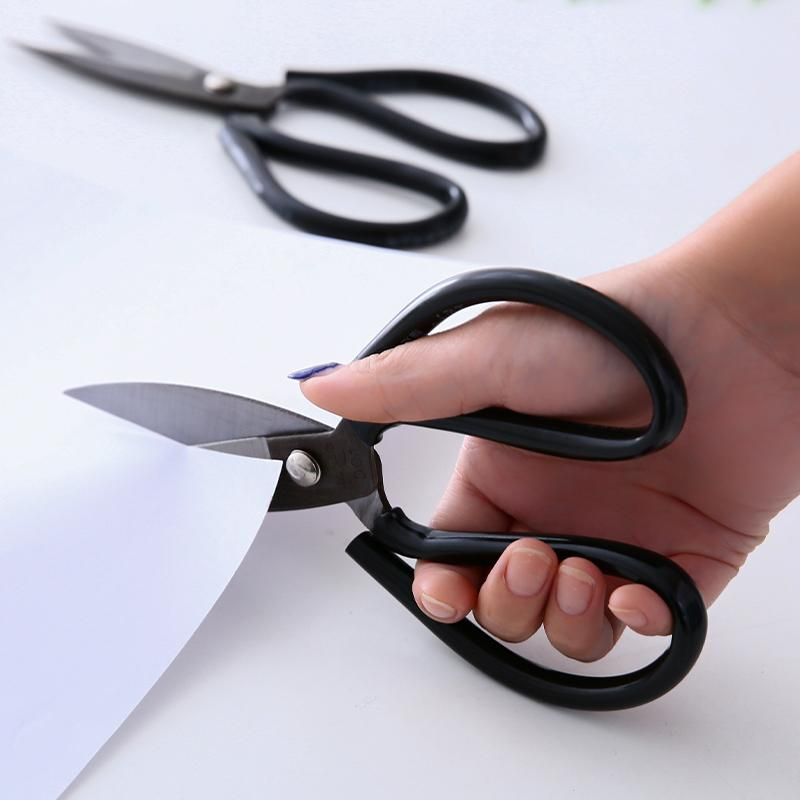scissor: (25, 201, 737, 737)
